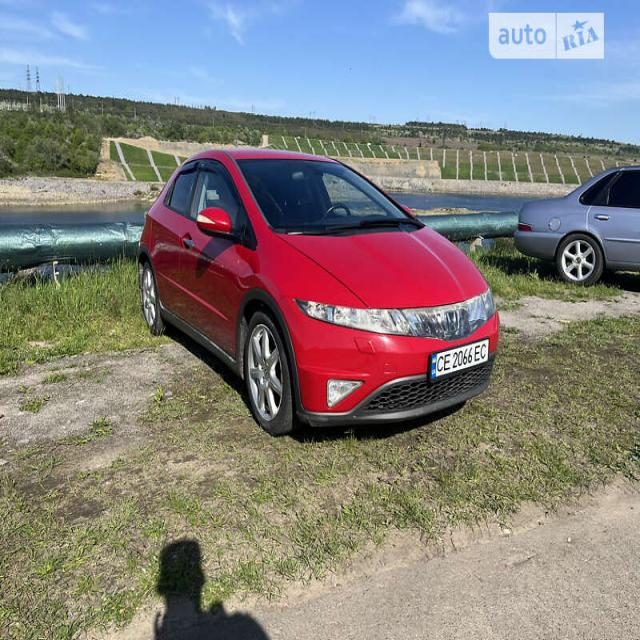plate: (429, 340, 497, 380)
